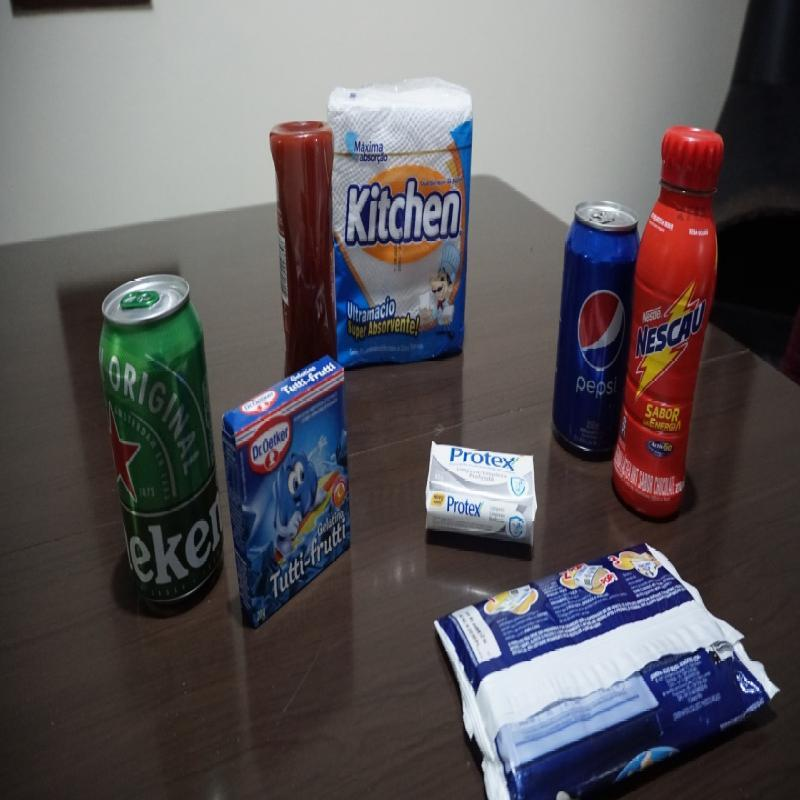Beer can: (100, 275, 226, 620)
Chocolate Milk: (612, 121, 725, 519)
Gelatine: (223, 353, 353, 631)
Ketchup: (271, 118, 338, 360)
Napkin: (327, 76, 476, 372)
Popcorn: (430, 542, 782, 800)
Soap: (421, 440, 539, 551)
Soda can: (553, 199, 633, 456)
